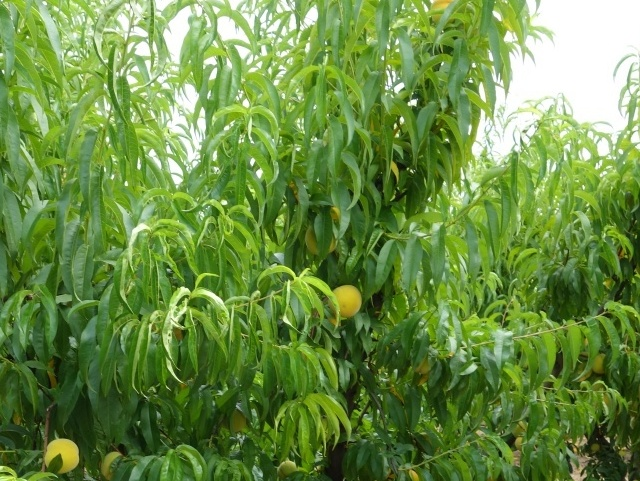peach: (40, 436, 84, 476), (301, 221, 339, 260), (327, 282, 364, 320), (96, 448, 125, 480), (273, 456, 303, 480), (590, 352, 609, 377)
